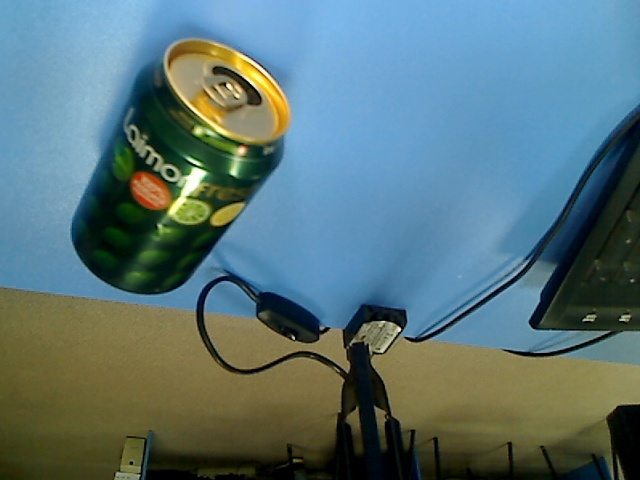can: (66, 36, 295, 299)
